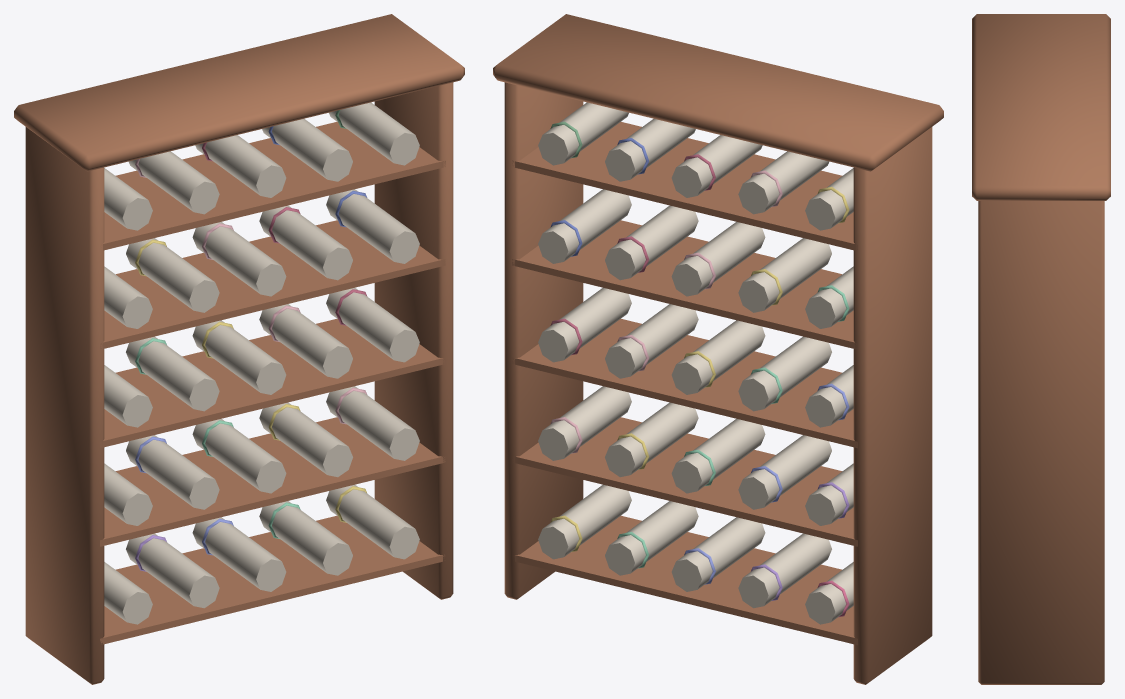
Rendered from scroll_rack.glb.
The picture shows the model from 3 angles, left to right: view 1: azimuth 30°, elevation 25°; view 2: azimuth 150°, elevation 25°; view 3: azimuth 270°, elevation 25°; orthographic projection. The views are drawn at different scales.
Visible parts, largest first — view 1: scroll_rack; view 2: scroll_rack; view 3: scroll_rack.
Part boxes in pixels (x1,y1,x2,y2): scroll_rack: (14,14,464,684); scroll_rack: (493,14,943,684); scroll_rack: (972,14,1110,684).
Size of what is drawn, in the model's own units: 1.2 by 1.6 by 0.4.
